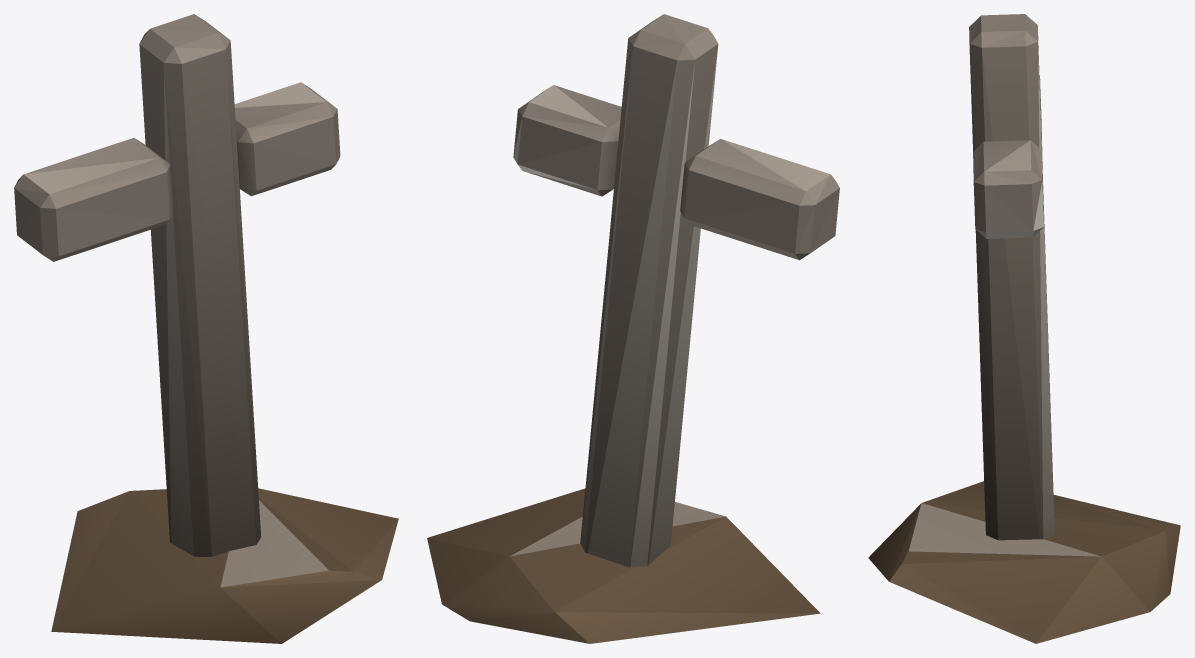
Rendered from abyss_marker.glb.
The picture shows the model from 3 angles, left to right: view 1: azimuth 30°, elevation 25°; view 2: azimuth 150°, elevation 25°; view 3: azimuth 270°, elevation 25°; orthographic projection. The views are drawn at different scales.
Visible parts, largest first — view 1: ca_abyss_marker; view 2: ca_abyss_marker; view 3: ca_abyss_marker.
Part boxes in pixels (box(x1,y1,x2,y2)): ca_abyss_marker: box(14, 14, 398, 643); ca_abyss_marker: box(427, 14, 839, 643); ca_abyss_marker: box(868, 14, 1180, 643).
Size of the model in its own units: 0.8483 by 1.2 by 0.639.
Materials: 1 (1 with a texture image).
